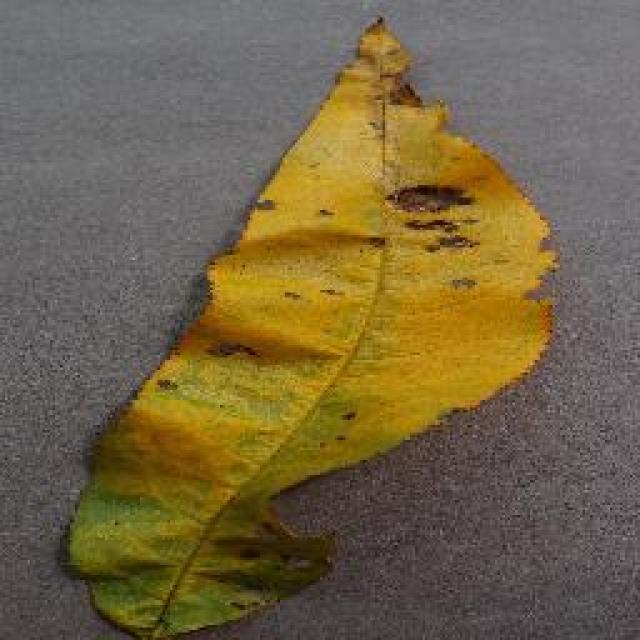Peach_Bacterial_Spot: (238, 55, 587, 485)
